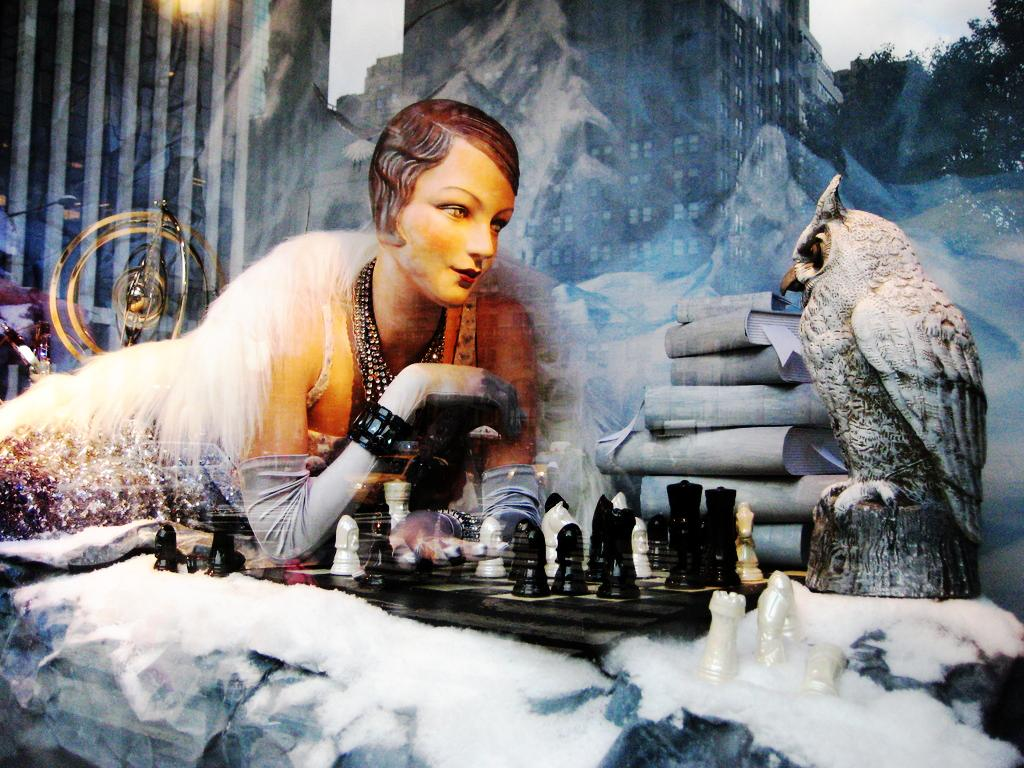Owl: (770, 174, 990, 548)
